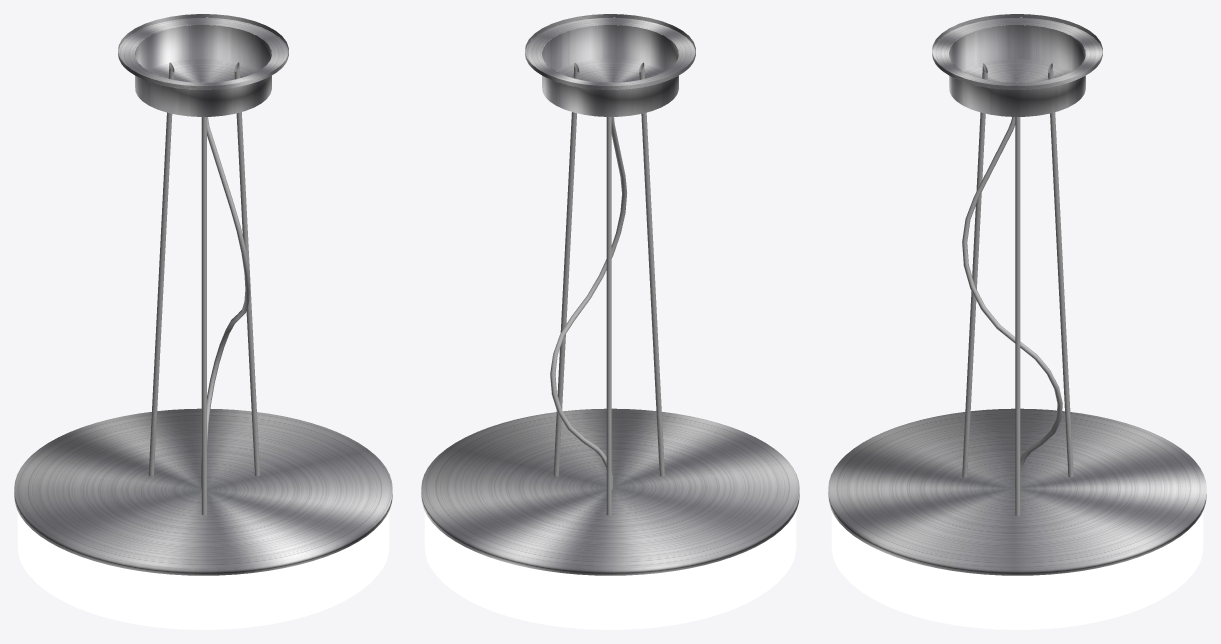
The picture shows the model from 3 angles, left to right: view 1: azimuth 30°, elevation 25°; view 2: azimuth 150°, elevation 25°; view 3: azimuth 270°, elevation 25°; orthographic projection.
Visible parts, largest first — view 1: Metal; view 2: Metal; view 3: Metal.
Boxes of the visible parts, bbox=[...] form: Metal: bbox=[14, 14, 392, 629]; Metal: bbox=[421, 14, 799, 629]; Metal: bbox=[828, 14, 1206, 629].
Size of the model in its own units: 73.02 by 108 by 73.02.
Materials: 1 (1 with a texture image).
